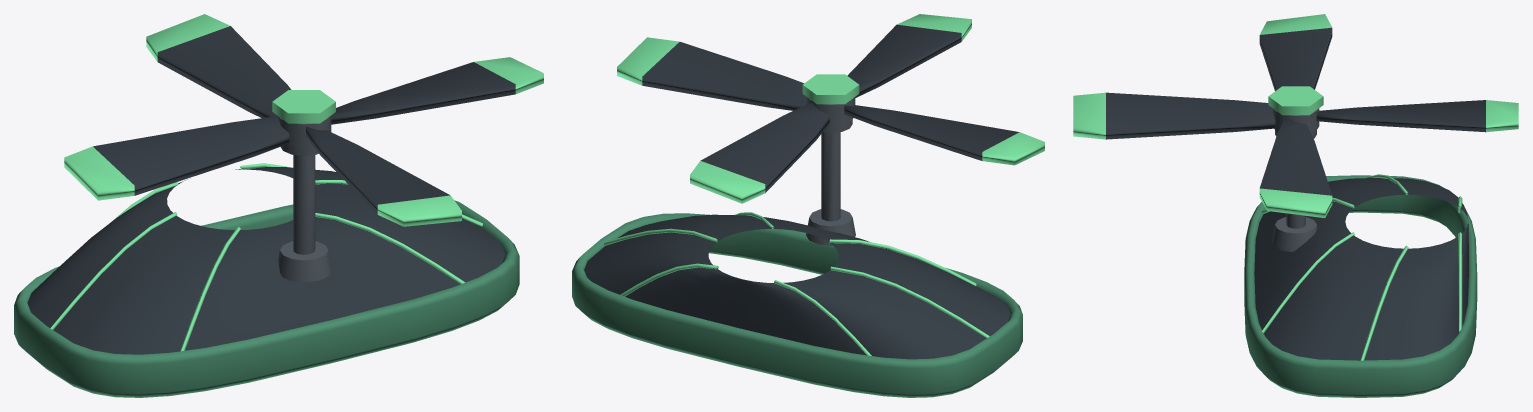
Rendered from glide-mainframe-beanie.glb.
3 views of the same model, side by side, from view 1: azimuth 30°, elevation 25°; view 2: azimuth 150°, elevation 25°; view 3: azimuth 270°, elevation 25° (orthographic). The views are drawn at different scales.
Visible parts, largest first — view 1: glide-mainframe-beanie, spin; view 2: glide-mainframe-beanie, spin; view 3: glide-mainframe-beanie, spin.
Part boxes in pixels (x1,y1,x2,y2): glide-mainframe-beanie: (14,144,519,397); spin: (64,14,543,226); glide-mainframe-beanie: (572,120,1022,397); spin: (617,14,1044,203); glide-mainframe-beanie: (1244,130,1477,397); spin: (1073,14,1518,217).
Size of the model in its own units: 0.556 by 0.285 by 0.55.
